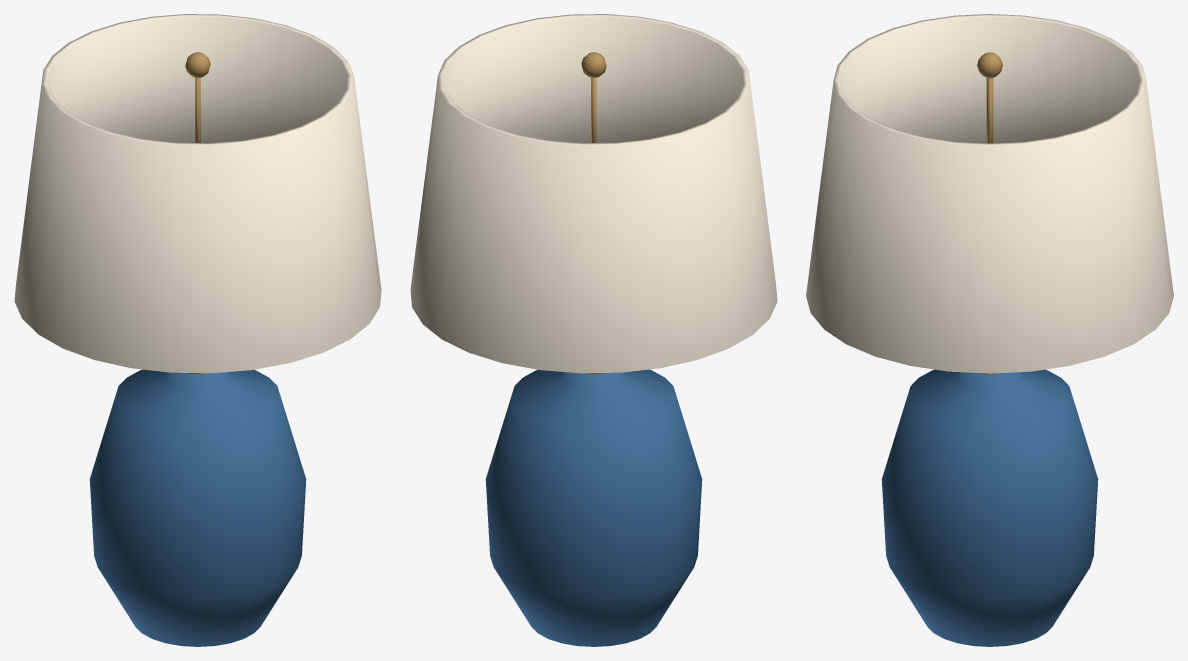
File: lampTableRound.glb
3 views of the same model, side by side, from view 1: azimuth 30°, elevation 25°; view 2: azimuth 150°, elevation 25°; view 3: azimuth 270°, elevation 25° (orthographic).
Visible parts, largest first — view 1: lampTableRound; view 2: lampTableRound; view 3: lampTableRound.
Part boxes in pixels (x1,y1,x2,y2): lampTableRound: [14, 14, 381, 646]; lampTableRound: [410, 14, 777, 646]; lampTableRound: [806, 14, 1173, 646].
Size of the model in its own units: 0.34 by 0.577 by 0.34.
